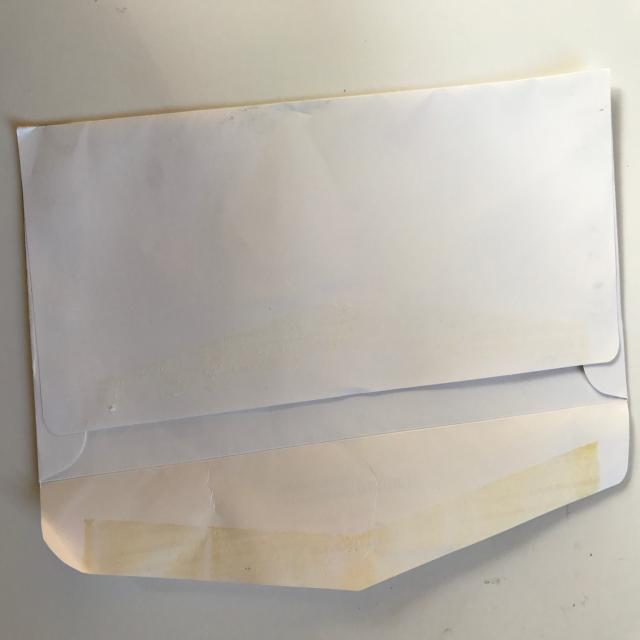paper: (2, 48, 640, 630)
